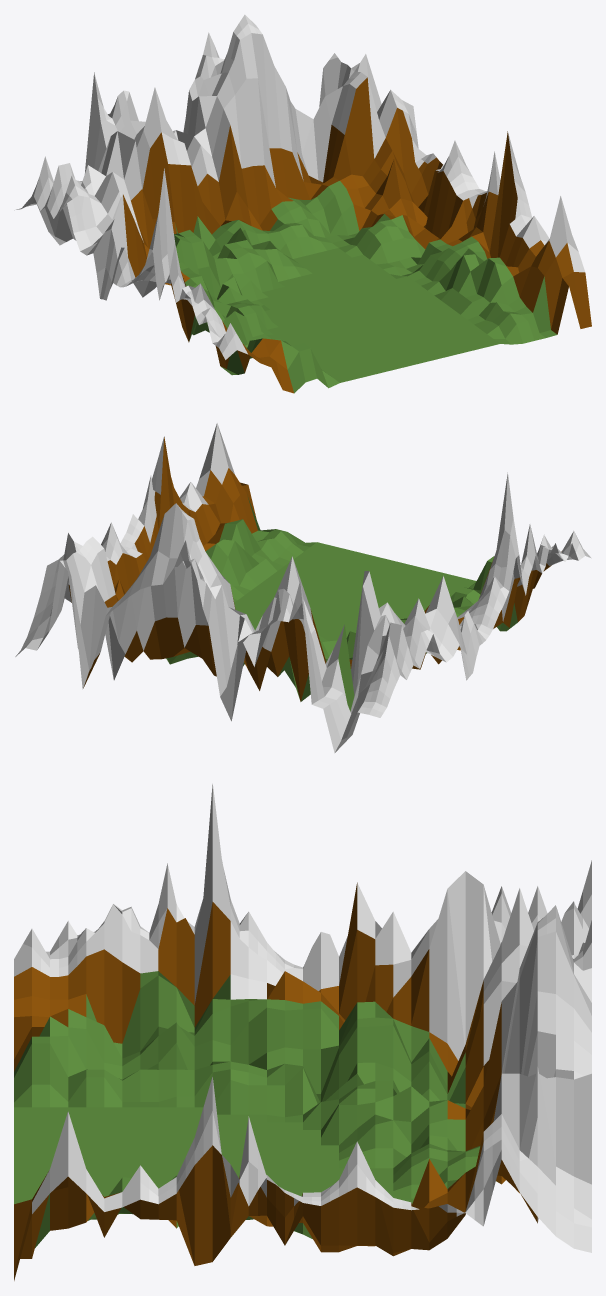
File: terrain.glb
The picture shows the model from 3 angles, top to bottom: view 1: azimuth 30°, elevation 25°; view 2: azimuth 150°, elevation 25°; view 3: azimuth 270°, elevation 25°; orthographic projection. The views are drawn at different scales.
Parts seen in each view (by area): view 1: Terrain -col; view 2: Terrain -col; view 3: Terrain -col.
Part boxes in pixels (x1,y1,x2,y2): Terrain -col: [14, 14, 591, 393]; Terrain -col: [15, 423, 591, 752]; Terrain -col: [14, 783, 591, 1280].
Bounding box in the file's own units: 300 × 159 × 300.
